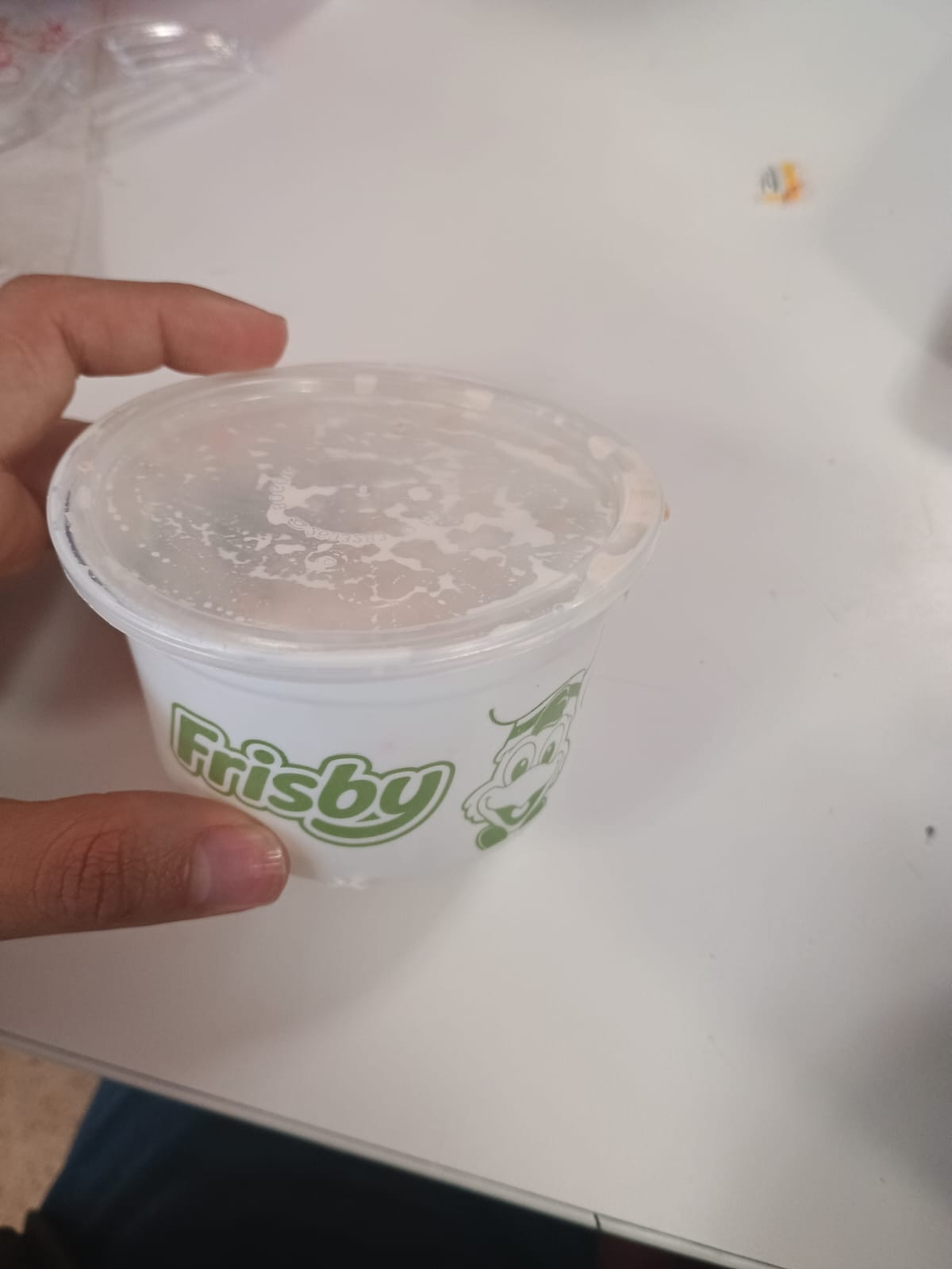Plastico: (46, 361, 671, 894)
